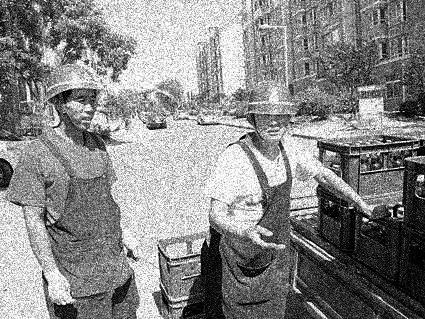helmet: (44, 63, 102, 131), (244, 79, 298, 143)
